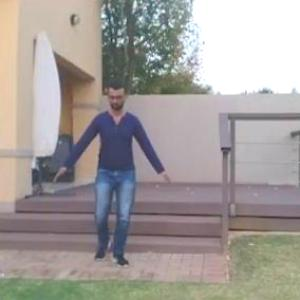land: (40, 64, 170, 290)
